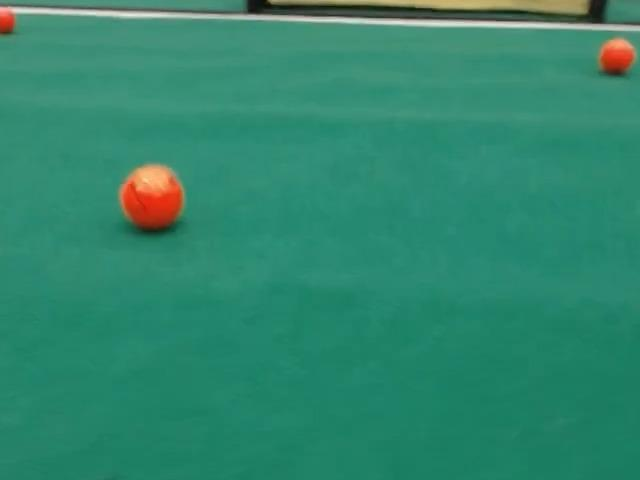Ball: (119, 164, 184, 231), (599, 38, 635, 74)
